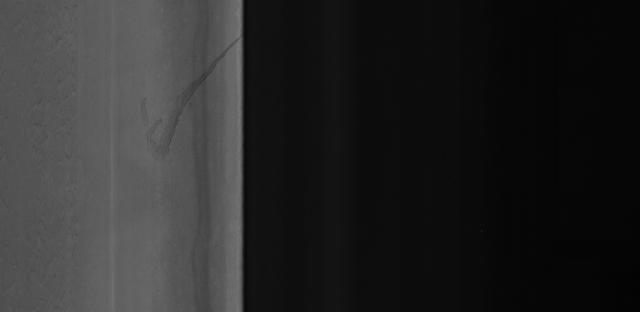water_spot: (140, 32, 240, 164)
